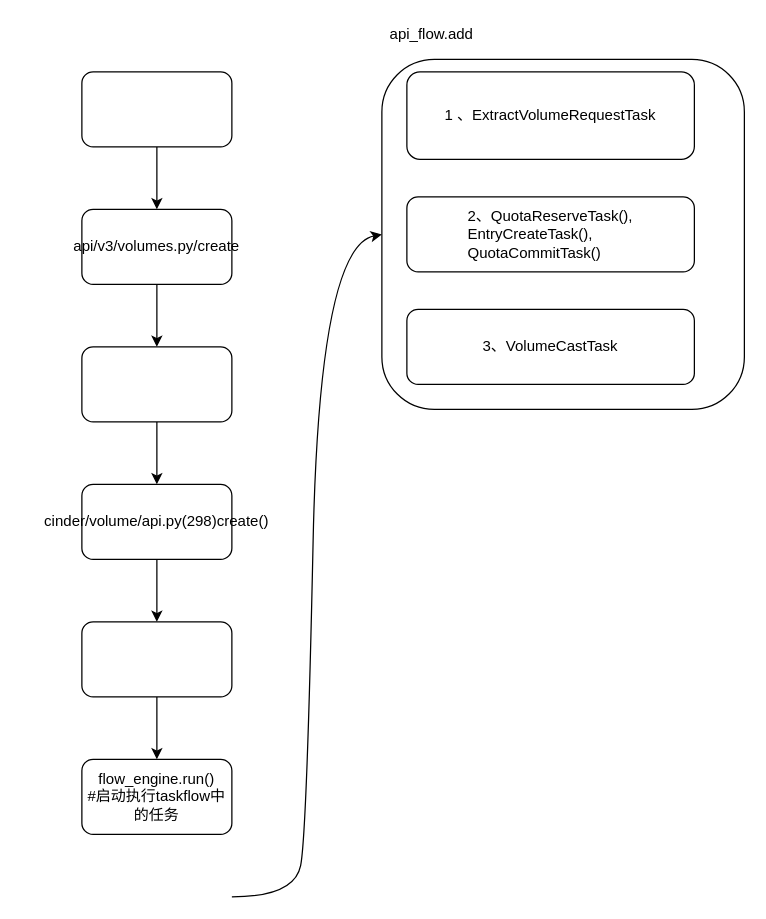
Image size: 766x919. Some labels were removed from this diagram. Here are the shapes that lost their labels. From the top down, the box of each, then its label:
(81, 71, 232, 147): cinder create 10 --name test01
(81, 346, 232, 422): for i in range(){ volumes.append(self.volume_api.create) }
(81, 621, 232, 697): create_volume.get_flow #准备taskflow
